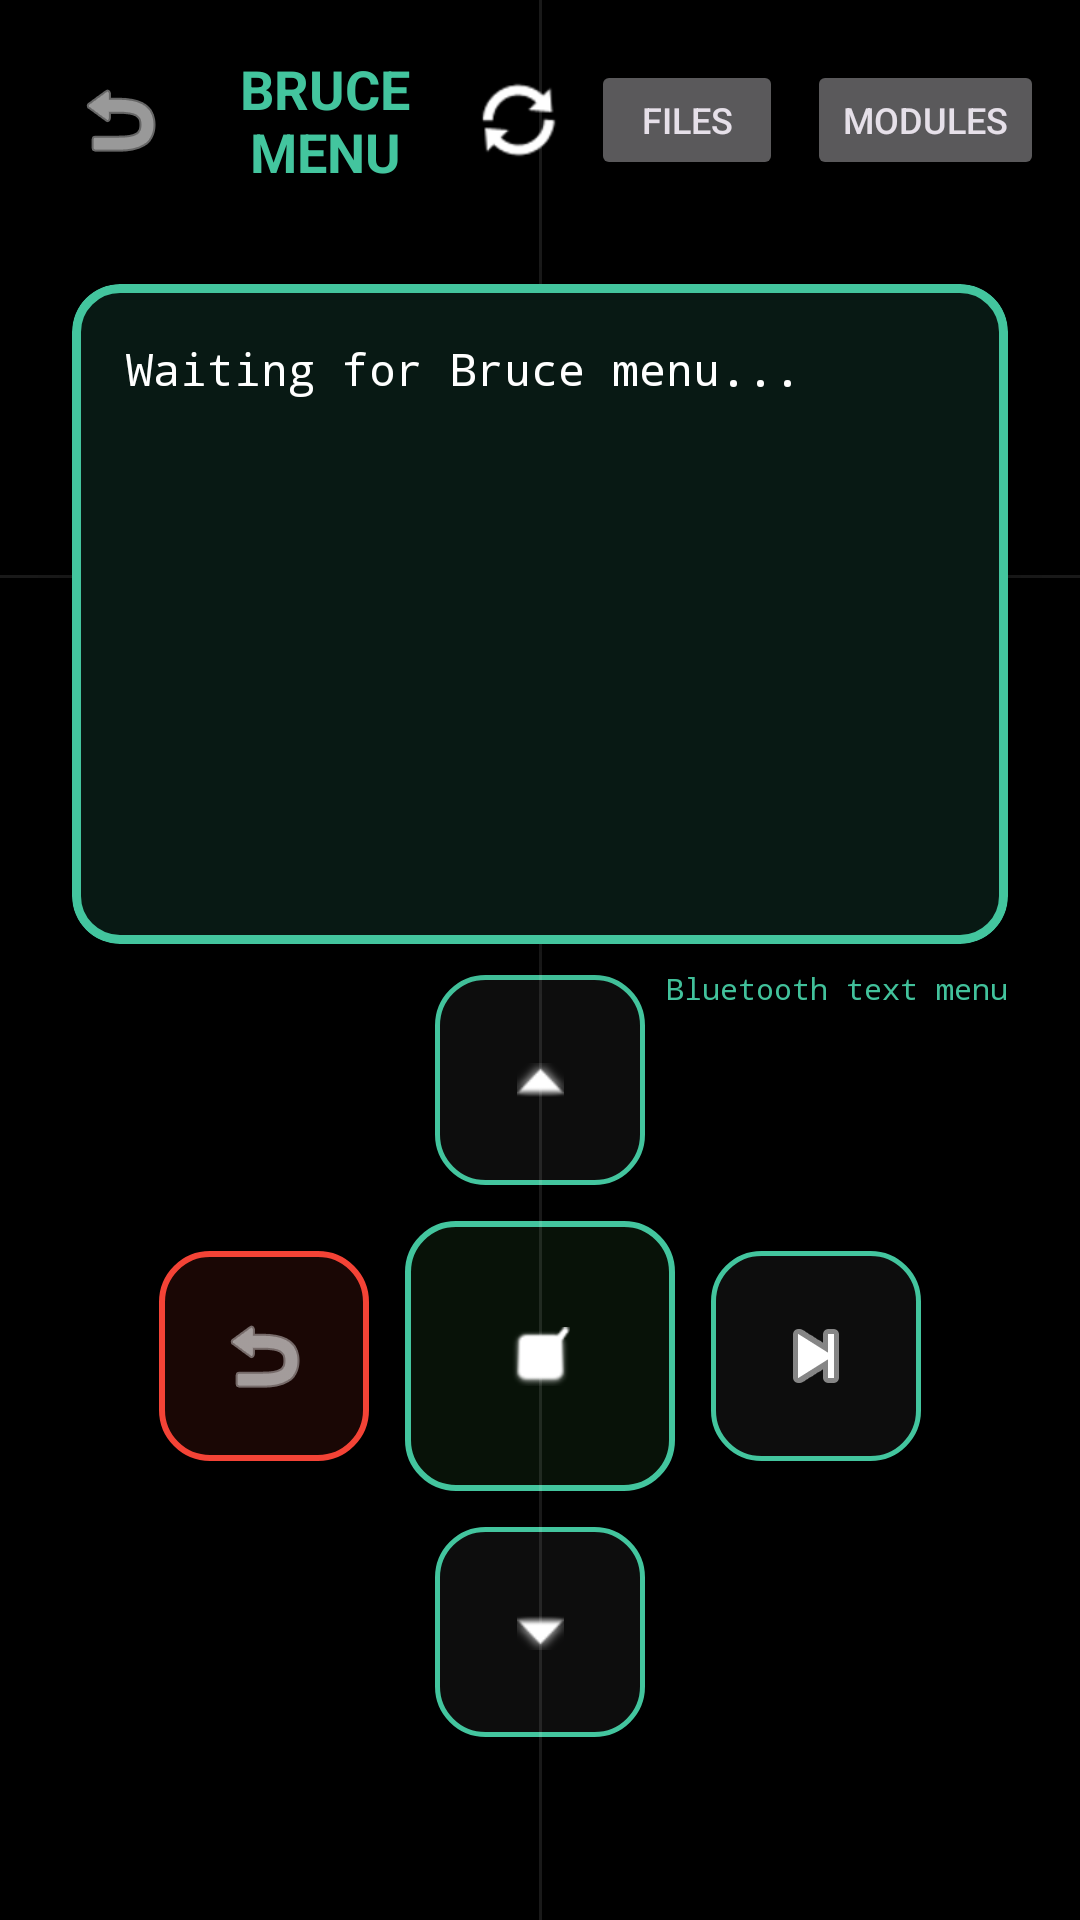

Named icons in this screenshot (1080 × 1920) and their bounding boxes, (x1, y1, x2, y2):
Back: (159, 1251, 369, 1461)
Down: (435, 1527, 645, 1737)
Go Back: (87, 89, 156, 152)
Next: (711, 1251, 921, 1461)
Up: (435, 975, 645, 1185)
